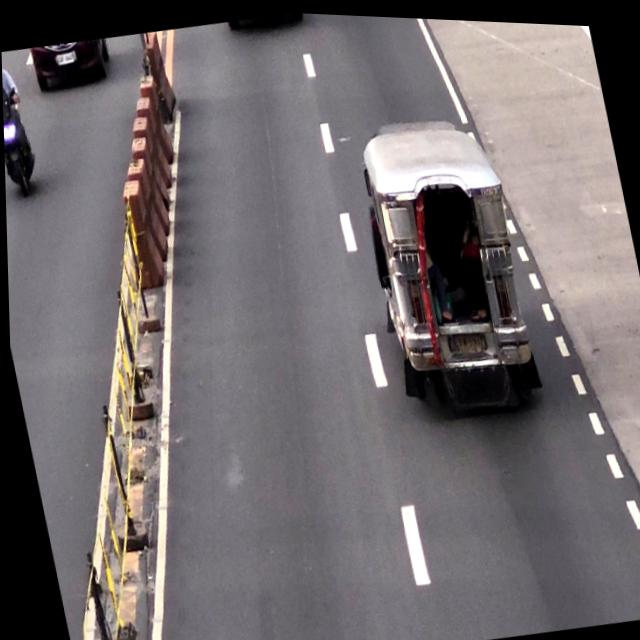Jeep: (350, 110, 543, 420)
License-Plate: (446, 324, 482, 351)
